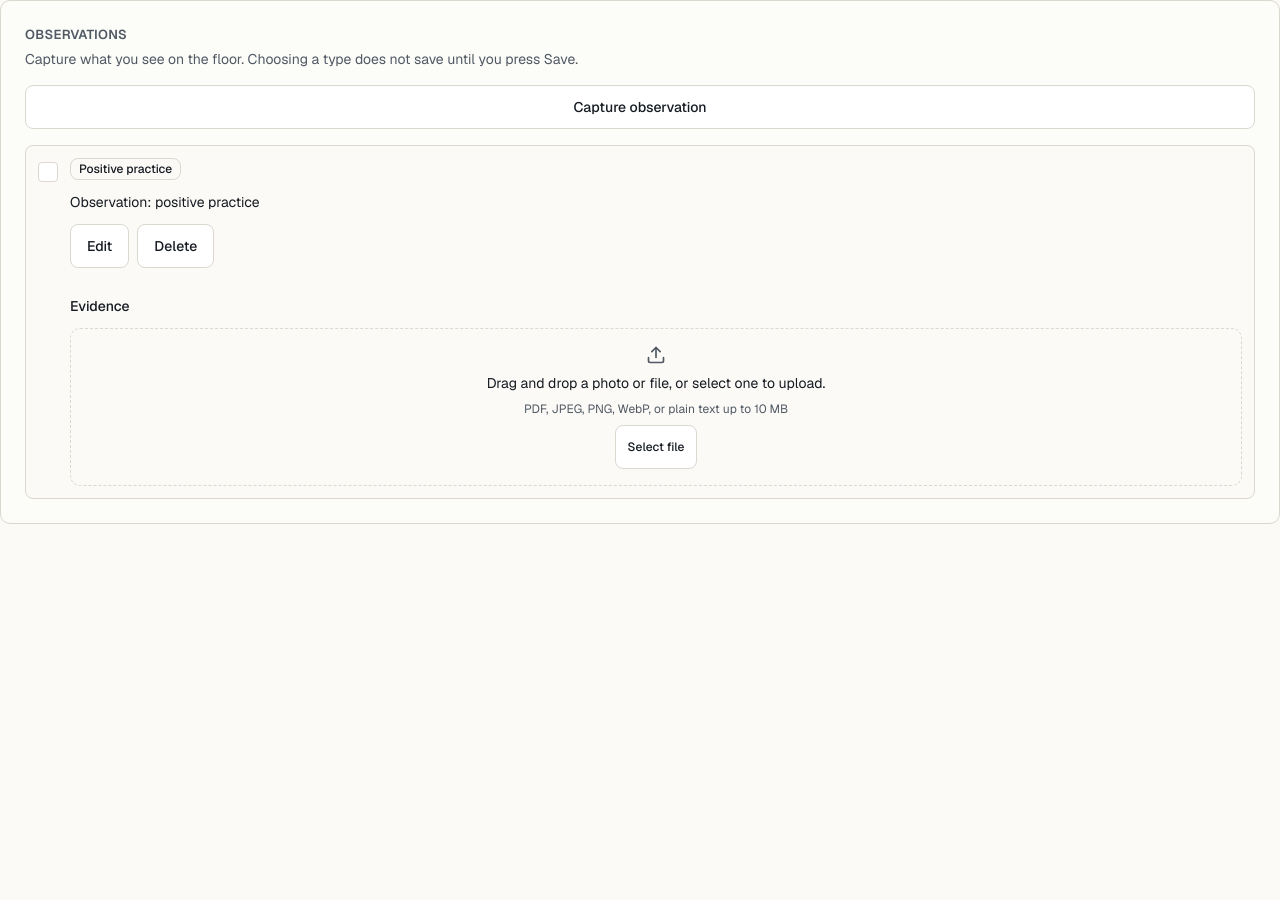
Test: Gemba observation capture › keeps an edit recoverable after a failed save
Click the button with test id "gemba-observation-edit-obs-existing".
click(100, 246)  # box [70,224,129,268]
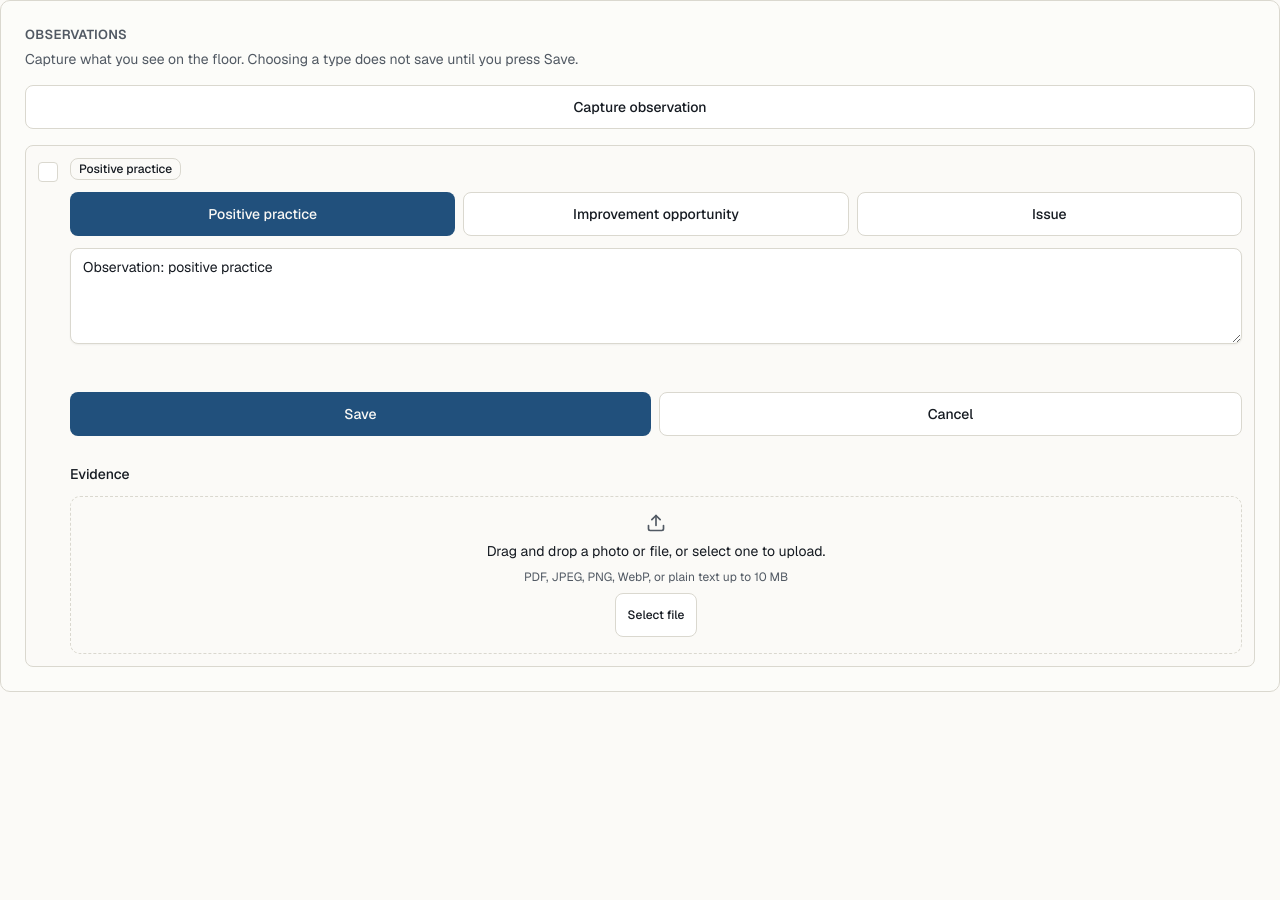
Replace the text in the text box with test id "gemba-observation-edit-text" with "Corrected observation text." at coordinates (656, 296), box [70,248,1242,344]
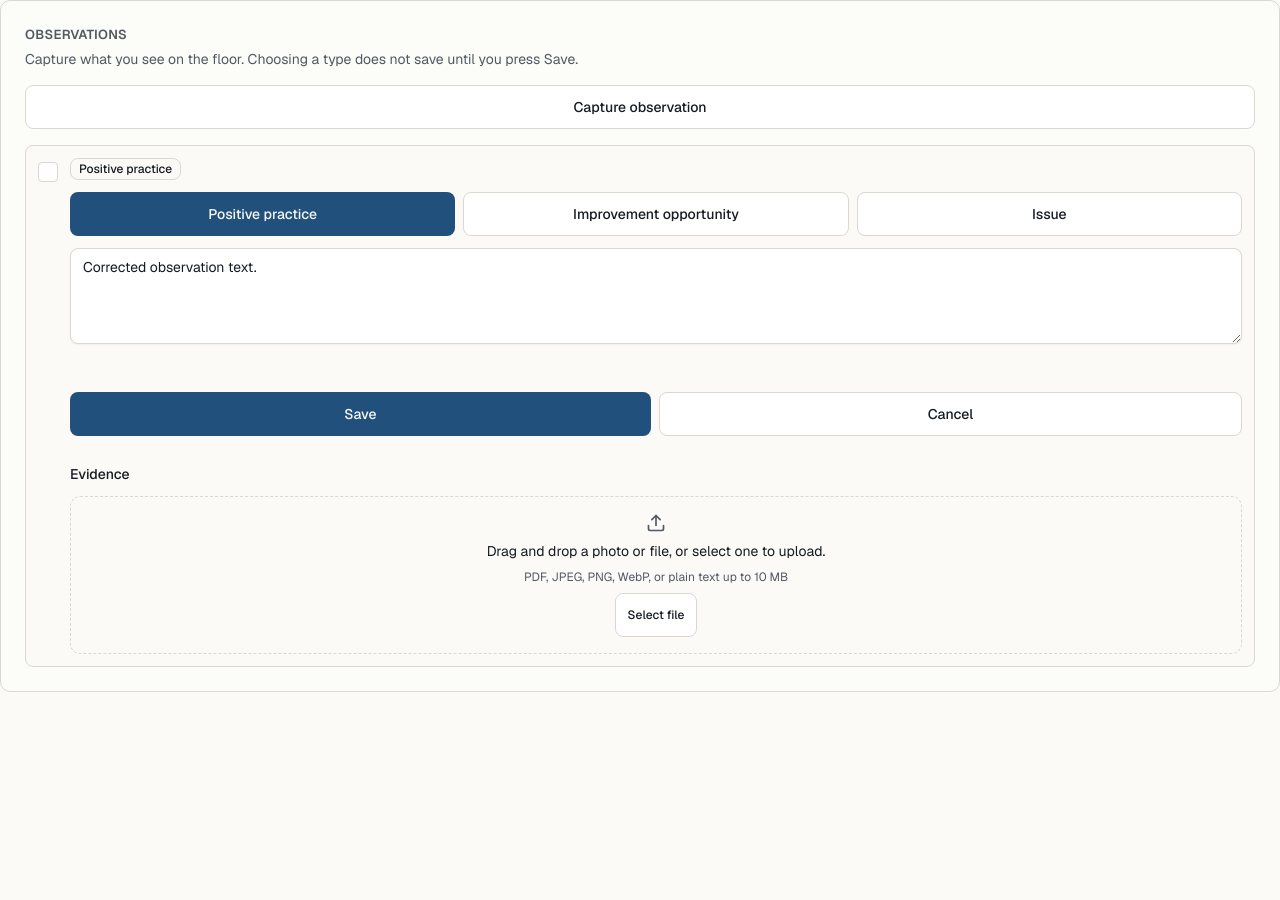
Click the button with test id "gemba-observation-edit-save".
click(360, 414)  # box [70,392,651,436]
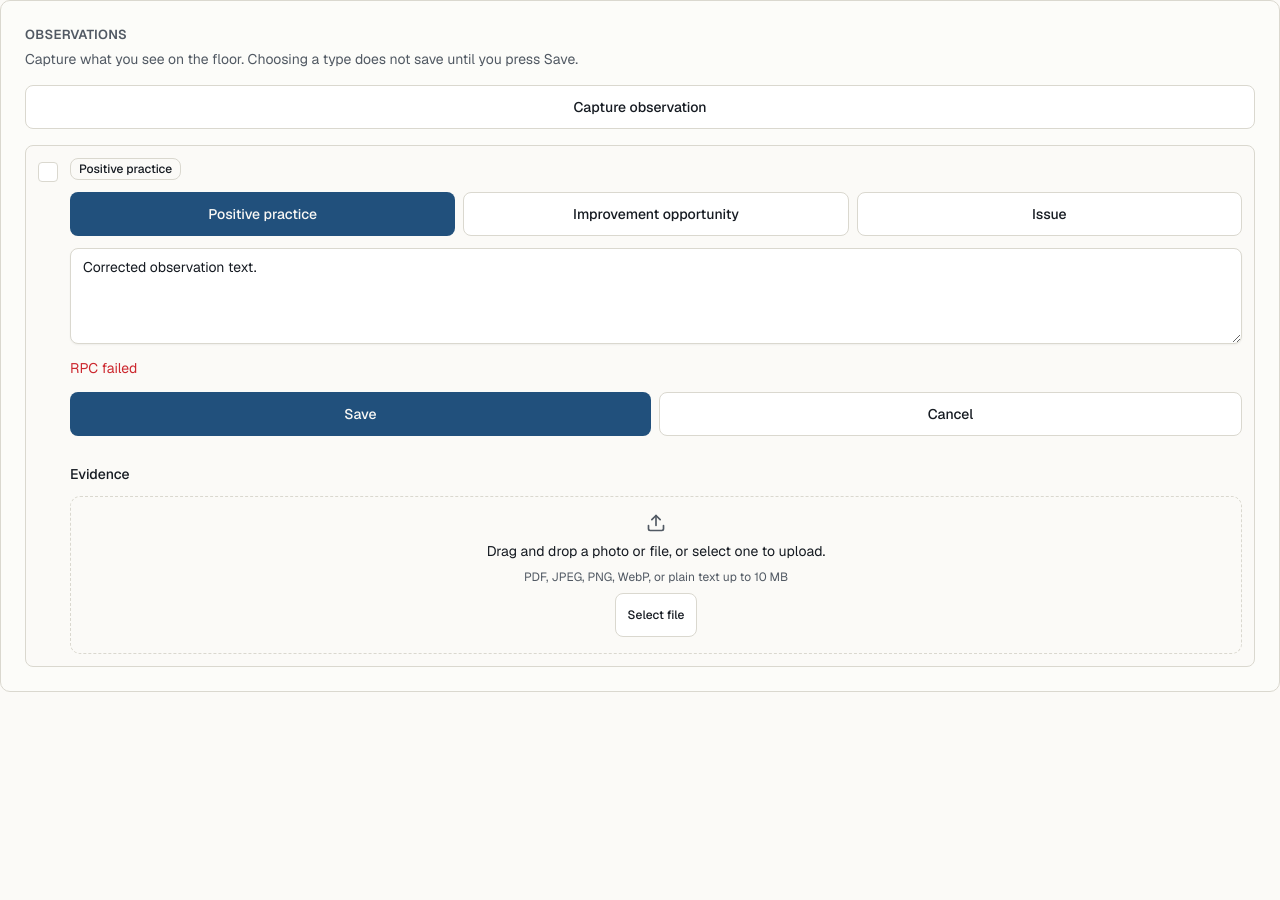
Check: the message reads "RPC failed", box [70,358,137,376]
Click the button with test id "gemba-observation-edit-save".
click(360, 414)  # box [70,392,651,436]
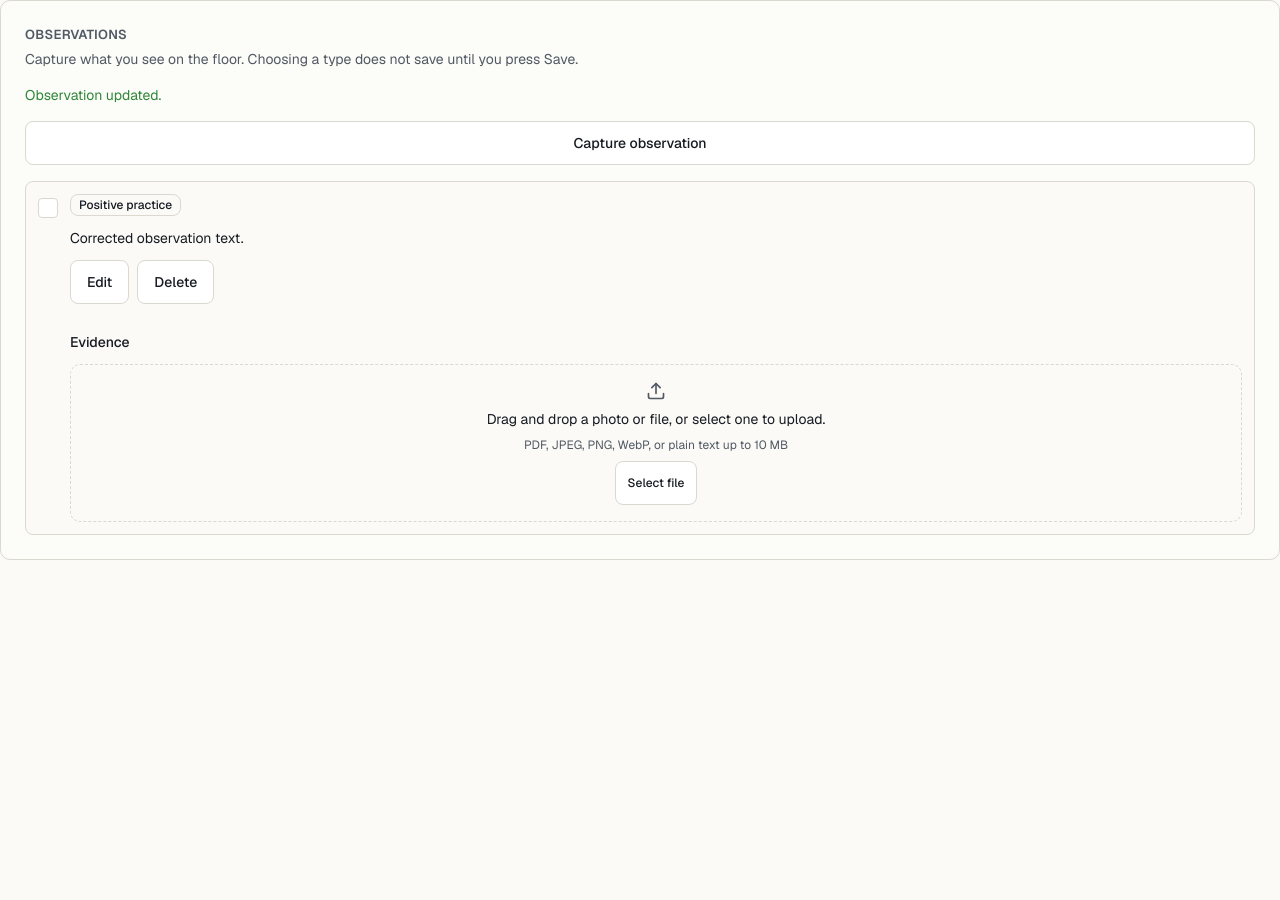
Check: the text "Corrected observation text." is shown, box [70,228,244,246]
